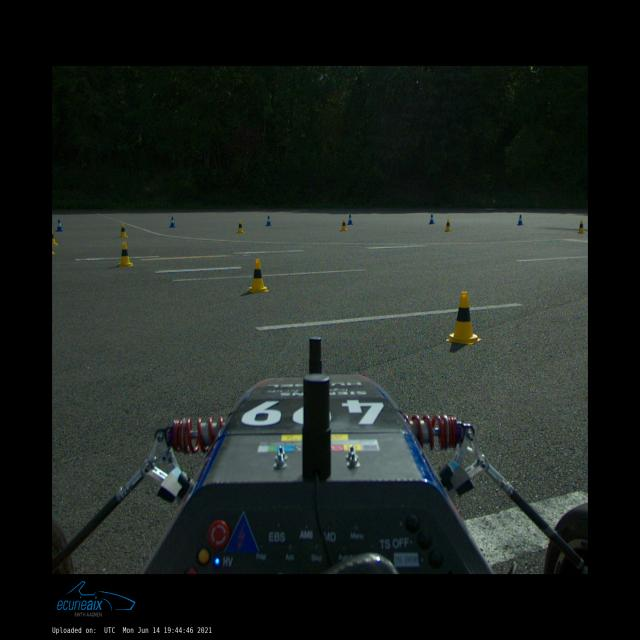blue_cone: (56, 220, 63, 232), (170, 216, 176, 228), (517, 214, 523, 226), (266, 215, 272, 226), (428, 215, 434, 224), (348, 214, 352, 224)
yellow_cone: (446, 292, 481, 344), (247, 259, 269, 292), (118, 242, 133, 266), (119, 224, 128, 238), (577, 220, 585, 233), (444, 220, 452, 232), (237, 220, 244, 233), (52, 229, 57, 245), (341, 219, 347, 231)
